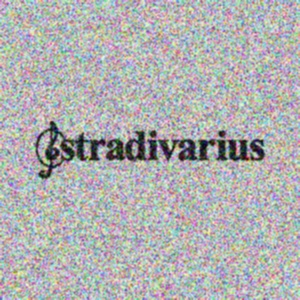stradivarius: (258, 59, 290, 177)
